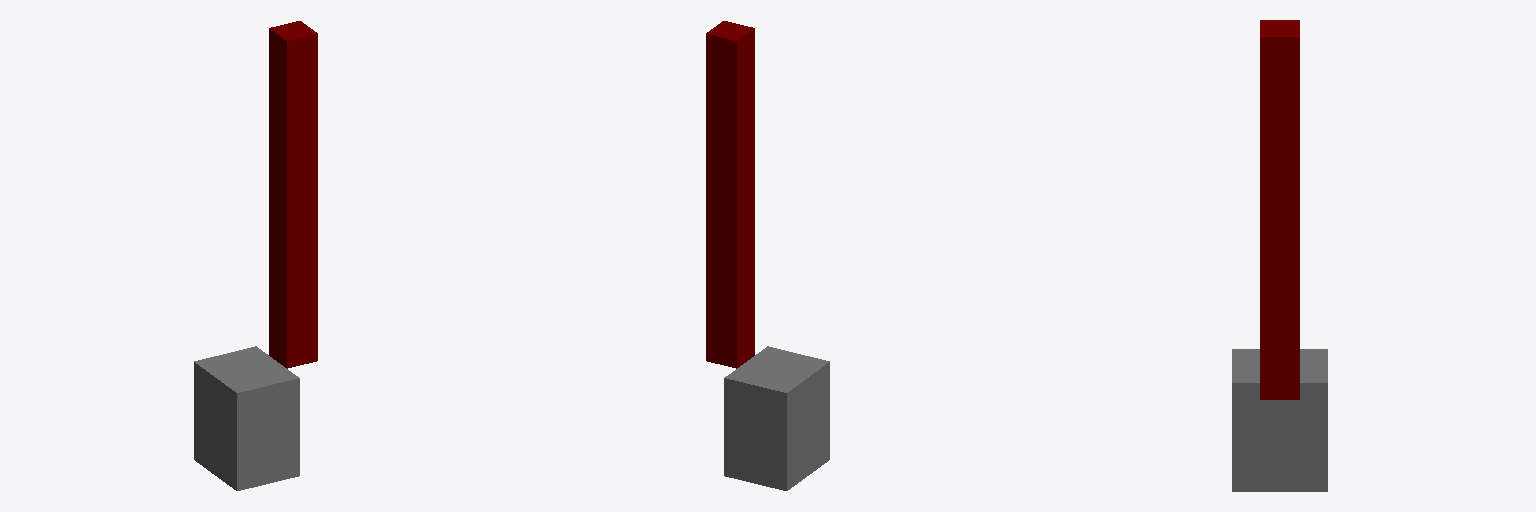
The robot description file, URDF, robot "basic_link":
<?xml version="1.0" encoding="utf-8"?>

<robot name="basic_link">

    <link name="world">
    </link>

    <joint name="world_to_base_link" type="fixed">
        <parent link="world"/>
        <child link="base_link"/>
        <origin xyz="0.0 0.0 0.0" rpy="0.0 0.0 0.0"/>
    </joint>
    

    <link name="base_link">
        <!--Descripcion de la parte visual del eslabon-->
        <visual>
            <!--Posicion y orientacion de origen del eslabon-->
            <origin xyz="0.0 0.0 0.075" rpy="0.0 0.0 0.0"/>
            <!--Definición de la geometria del eslabón-->
            <geometry>
                <box size="0.1 0.12 0.15"/>             
            </geometry>
            <!--Definicion del color del eslabon-->
            <material name="grey">
                <color rgba="0.5 0.5 0.5 1.0" />
            </material>      
        </visual>
        <!--Descripcion de las relaciones de colision-->
        <collision>
            <!--Posicion y orientacion de origen del eslabon-->
            <origin xyz="0.0 0.0 0.075" rpy="0.0 0.0 0.0"/>
            <!--Definicion de la geometria del eslabon-->
            <geometry>
                <box size="0.1 0.12 0.15"/>             
            </geometry>          
        </collision>
        <!--Descripcion de la inercial del eslabon-->
        <inertial>
            <!--masa del eslabon-->
            <mass value="0.5"/>
            <!--Ubicacion del sistema inercial asociado al centro de masa-->
            <origin xyz="0.0 0.0 0.0" rpy="0.0 0.0 0.0"/>
            <!--Matriz de inercia en el centro de masa-->
            <inertia ixx="0.1" ixy="0.0" ixz="0.0" iyy="1.0" iyz="0.0" izz="1.0"/> 
        </inertial>
        
    </link>

    <link name="link_1">
        <!--Descripcion de la parte visual del eslabon-->
        <visual>
            <!--Posicion y orientación de origen del eslabon-->
            <origin xyz="0.025 0.0 0.25" rpy="0.0 0.0 0.0"/>
            <!--Definición de la geometria del eslabón-->
            <geometry>
                <box size="0.05 0.05 0.5"/>             
            </geometry>
            <!--Definicion del color del eslabon-->
            <material name="red">
                <color rgba="0.5 0.0 0.0 1.0" />
            </material>      
        </visual>
        <!--Descripcion de las relaciones de colision-->
        <collision>
            <!--Posicion y orientacion de origen del eslabon-->
            <origin xyz="0.025 0.0 0.25" rpy="0.0 0.0 0.0"/>
            <!--Definicion de la geometria del eslabon-->
            <geometry>
                <box size="0.05 0.05 0.5"/>             
            </geometry>          
        </collision>
        <!--Descripcion de la inercial del eslabon-->
        <inertial>
            <!--masa del eslabon-->
            <mass value="0.3"/>
            <!--Ubicacion del sistema inercial asociado al centro de masa-->
            <origin xyz="0.0 0.0 0.0" rpy="0.0 0.0 0.0"/>
            <!--Matriz de inercia en el centro de masa-->
            <inertia ixx="0.1" ixy="0.0" ixz="0.0" iyy="1.0" iyz="0.0" izz="1.0"/> 
        </inertial>
    </link>

   <joint name="base_link_to_link_1" type="revolute">
    <parent link="base_link"/>
    <child link="link_1"/>
    <axis xyz="1 0 0"/>
    <limit lower="-3.14159" upper="3.14159" velocity="50.0" effort="1000.0"/>
    <origin xyz="0.05 0 0.15" rpy="0 0 0"/>
   </joint>

    <!--Definicion en Gazebo-->

    <gazebo reference="base_link">
        <material>Gazebo/Grey</material>
    </gazebo>

    <gazebo reference="link_1">
        <material>Gazebo/Red</material>
    </gazebo>

    <!--Fin de la definicion de Gazebo-->

    <!--Definicion del control-->

    <transmission name ="trans_1">
        <type>transmission_interface/SimpleTransmission</type>
        <joint name="base_link_to_link_1">
            <hardwareInterface>hardware_interface/PositionJointInterface</hardwareInterface>
        </joint>
        <actuator name="motor_1">
            <hardwareInterface>hardware_interface/PositionJointInterface</hardwareInterface>
            <mechanicalReduction>1</mechanicalReduction>
        </actuator>
    </transmission>

    <gazebo>
        <plugin name="joint_state_publisher_controller"
                filename="libgazebo_ros_joint_state_publisher.so">
            <!-- Update rate in Hertz -->
            <update_rate>10</update_rate>
            <!-- Name of joints in the model whose states will be published. -->
            <joint_name>base_link_to_link_1</joint_name>
        </plugin>
    </gazebo>

    <gazebo>
        <plugin name="joint_pose_trajectory_controller"
                filename="libgazebo_ros_joint_pose_trajectory.so">
            <!-- Update rate in Hz -->
            <update_rate>2</update_rate>
        </plugin>
    </gazebo>

    <!--Fin de la definicion del control-->

</robot>

--- Render facts (derived) ---
The picture shows the robot from 3 angles, left to right: view 1: azimuth 30°, elevation 25°; view 2: azimuth 150°, elevation 25°; view 3: azimuth 270°, elevation 25°; orthographic projection.
Model basic_link with 3 links and 2 joints (1 revolute, 1 fixed), rooted at world, posed all joints at 0.
Visible links, largest first — view 1: link_1, base_link; view 2: link_1, base_link; view 3: link_1, base_link.
Boxes of the visible links, left/top/right/bottom form: link_1: left=269, top=21, right=317, bottom=368; base_link: left=194, top=346, right=299, bottom=490; link_1: left=706, top=21, right=754, bottom=368; base_link: left=724, top=346, right=829, bottom=490; link_1: left=1260, top=20, right=1299, bottom=399; base_link: left=1232, top=349, right=1327, bottom=491.
Size in the robot's own frame: 0.15 by 0.12 by 0.65 metres.
Geometry: primitives only (box / cylinder / sphere), no mesh files.